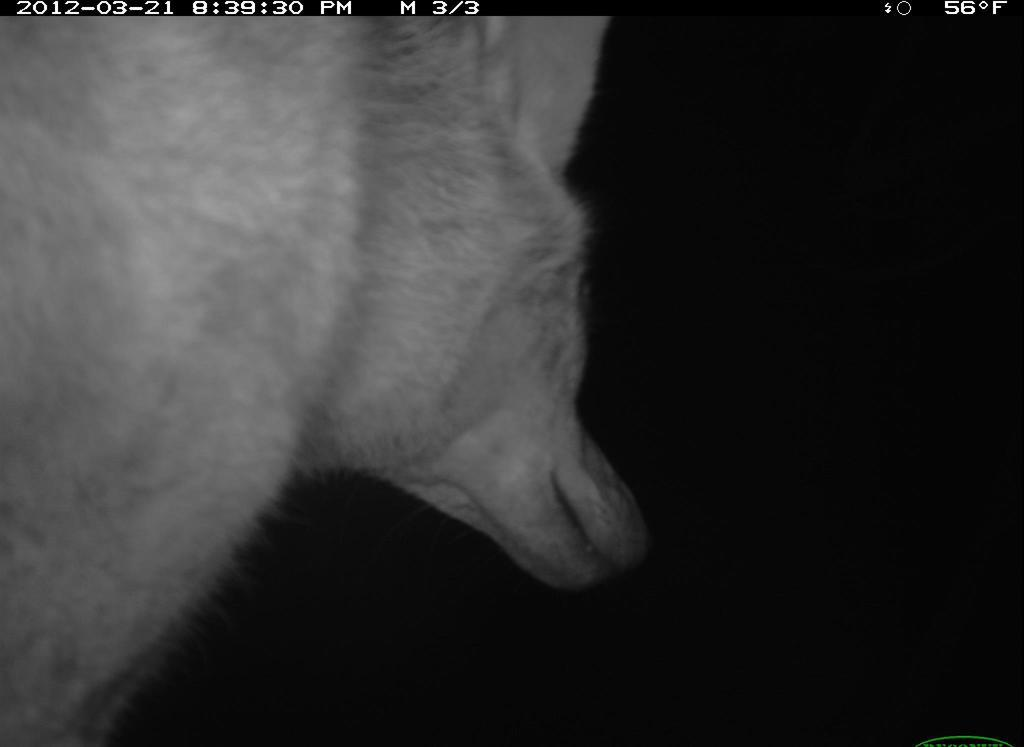coyote: (6, 3, 649, 743)
